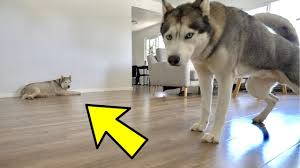Siberian Husky: (144, 3, 300, 133), (17, 65, 88, 120)
